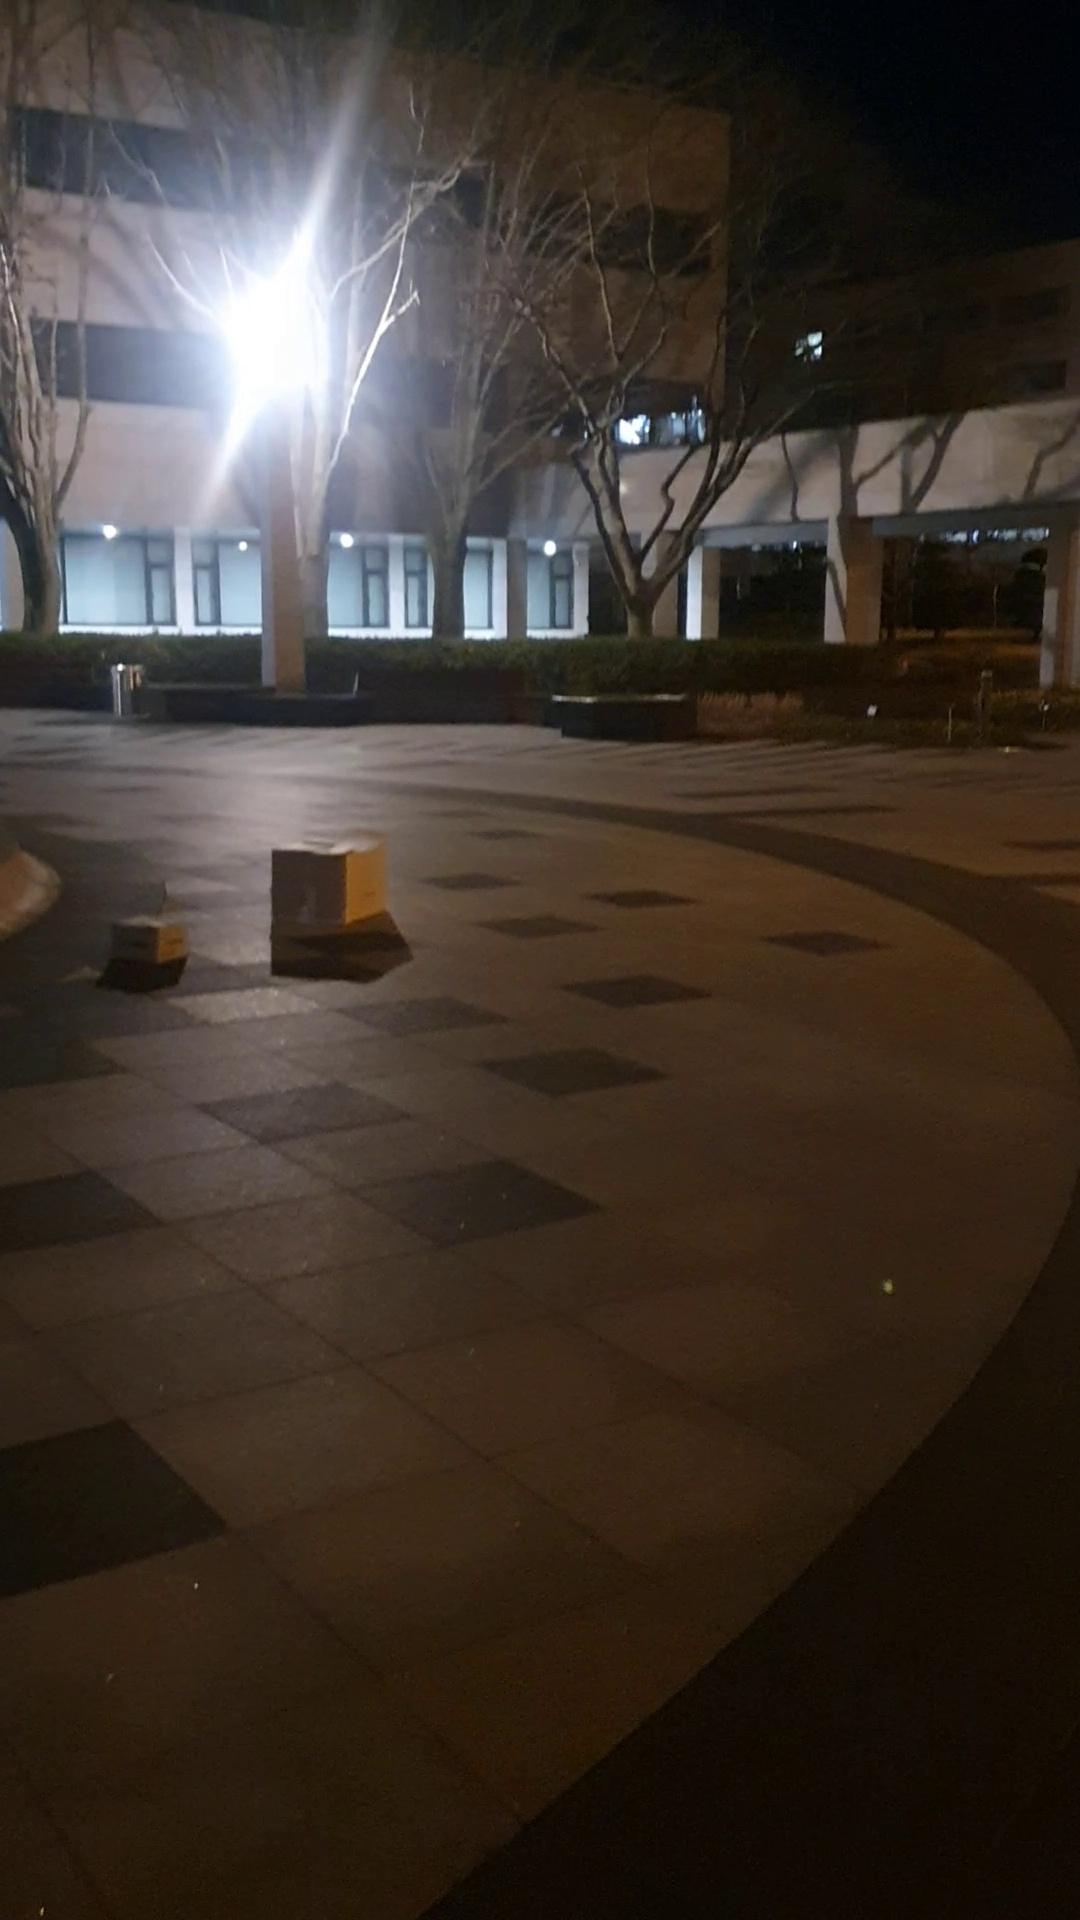Box: (268, 825, 402, 949), (103, 913, 190, 968)
